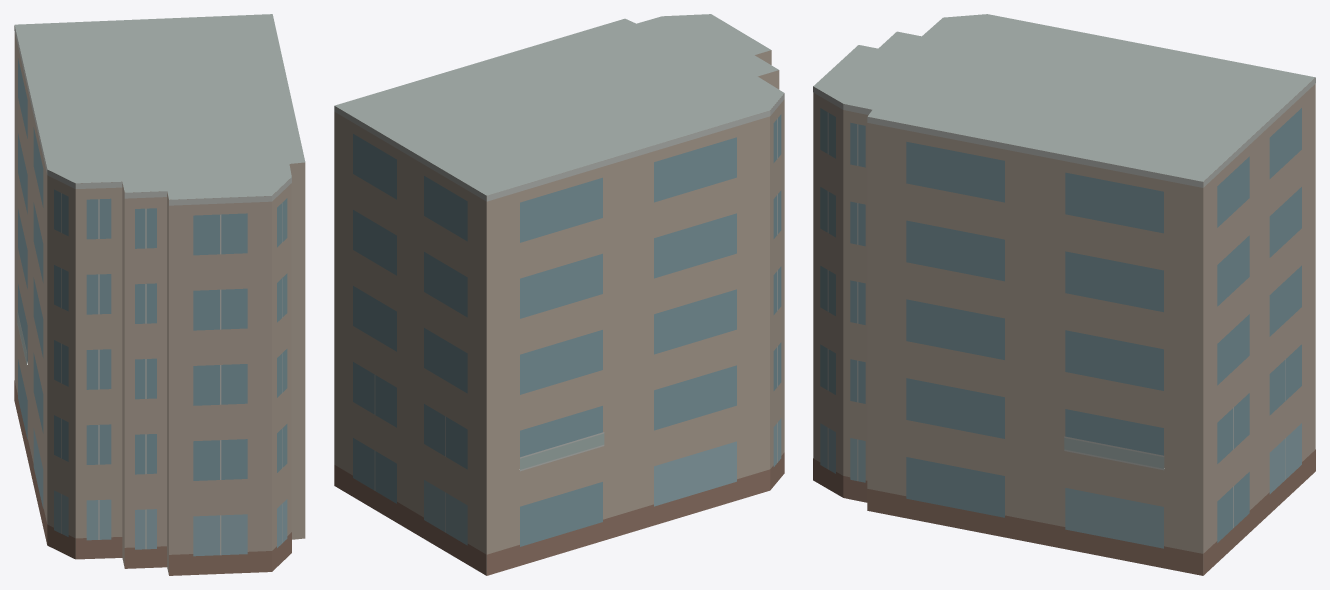
File: survey-upis-32525390.glb
3 renders of one model, left to right at view 1: azimuth 30°, elevation 25°; view 2: azimuth 150°, elevation 25°; view 3: azimuth 270°, elevation 25°, orthographic. The views are drawn at different scales.
Visible parts, largest first — view 1: survey-upis-32525390.tmp; view 2: survey-upis-32525390.tmp; view 3: survey-upis-32525390.tmp.
Boxes of the visible parts, left/top/right/bottom form: survey-upis-32525390.tmp: left=14, top=14, right=305, bottom=575; survey-upis-32525390.tmp: left=334, top=14, right=784, bottom=575; survey-upis-32525390.tmp: left=813, top=14, right=1315, bottom=575.
Size of the model in its own units: 14.31 by 15.66 by 18.11.
